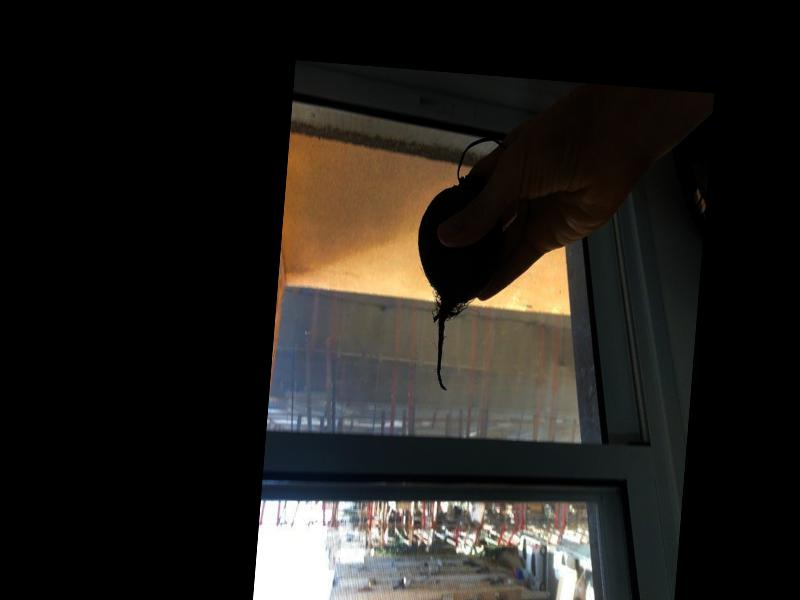Beet: (406, 133, 536, 396)
